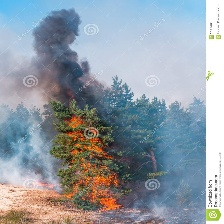fire: (63, 115, 117, 209)
smoke: (26, 9, 104, 103), (1, 123, 61, 190), (163, 118, 205, 205)
